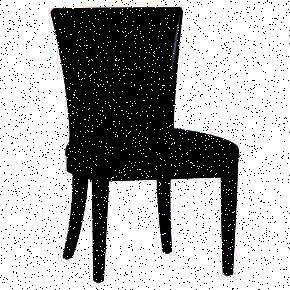Silla: (49, 7, 238, 283)
